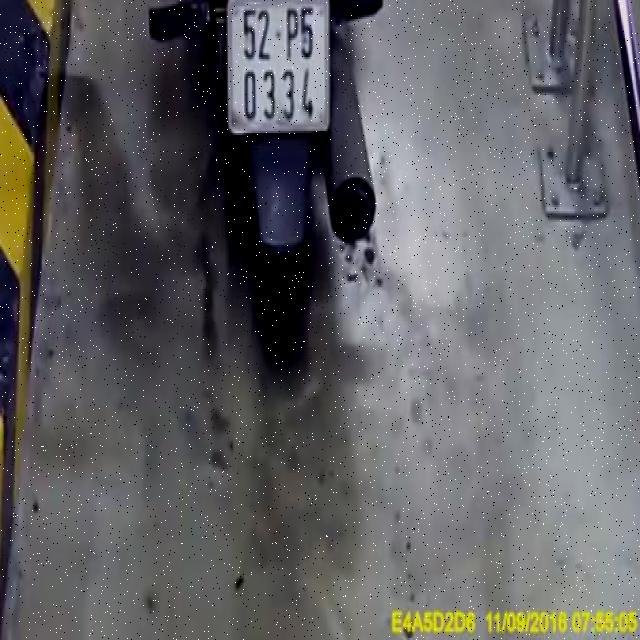0: (240, 68, 258, 122)
2: (255, 6, 274, 61)
3: (279, 66, 297, 122), (263, 66, 279, 122)
4: (299, 68, 317, 124)
5: (298, 5, 317, 61), (242, 6, 258, 62)
P: (282, 3, 300, 62)
